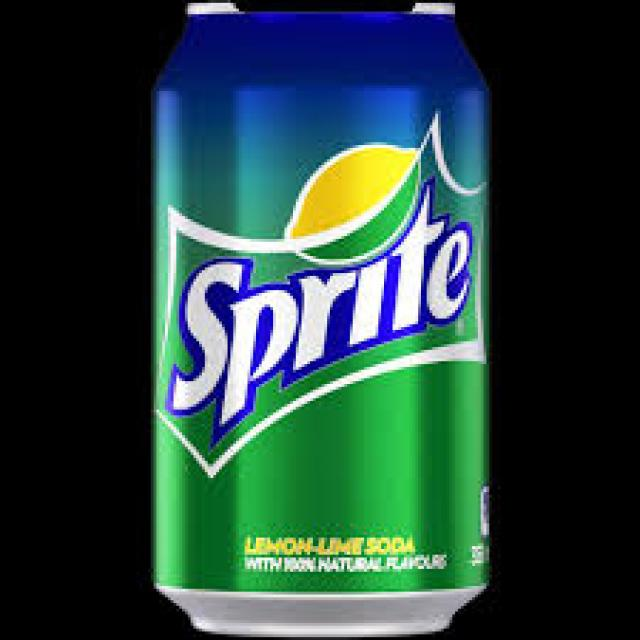aluminum_can: (156, 3, 492, 636)
